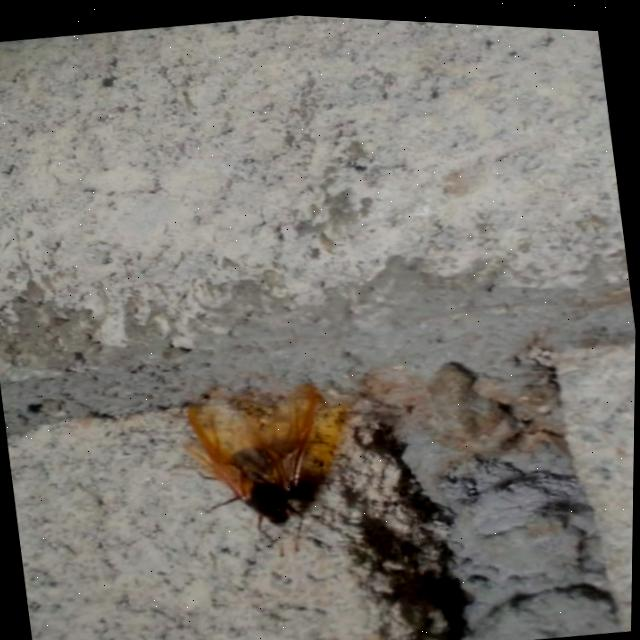Alive-Male-Alate: (173, 367, 342, 567)
